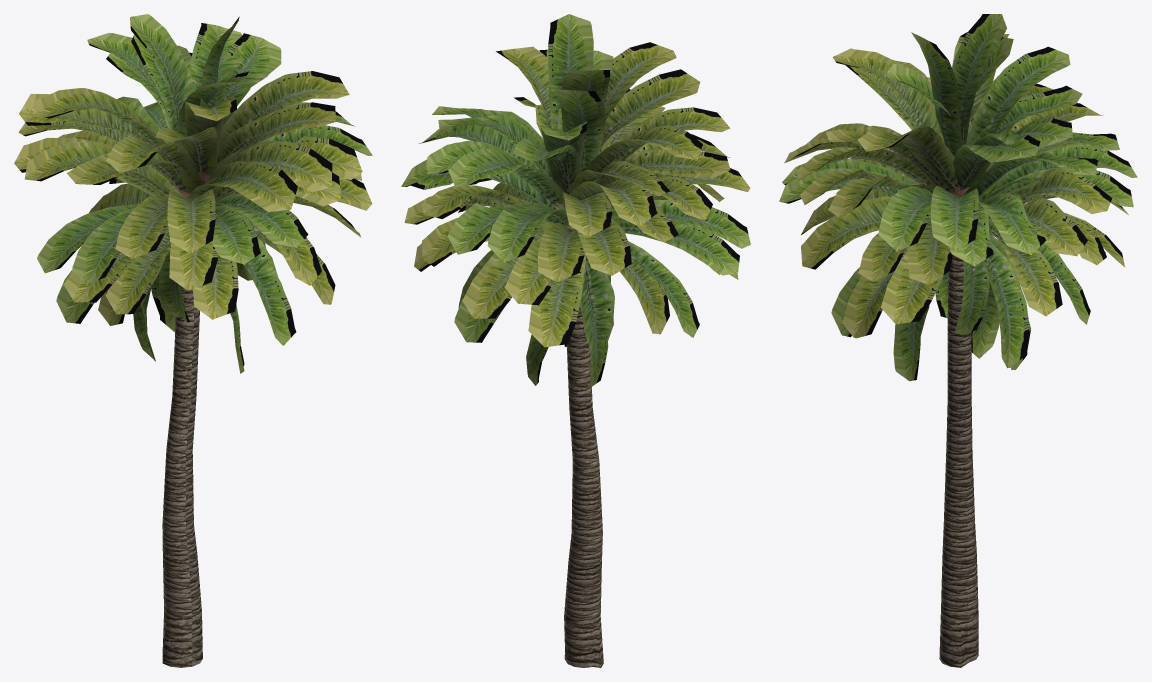
The model's file is palm_yellow.glb.
3 views of the same model, side by side, from view 1: azimuth 30°, elevation 25°; view 2: azimuth 150°, elevation 25°; view 3: azimuth 270°, elevation 25° (orthographic). The views are drawn at different scales.
Parts seen in each view (by area): view 1: palm.001_w; view 2: palm.001_w; view 3: palm.001_w.
Boxes of the visible parts, box(x1,y1,x2,y2) form: palm.001_w: box(14, 14, 372, 667); palm.001_w: box(401, 14, 750, 667); palm.001_w: box(779, 14, 1137, 667).
Bounding box in the file's own units: 4.37 × 8.5 × 4.31.
1 material, 1 textured.
